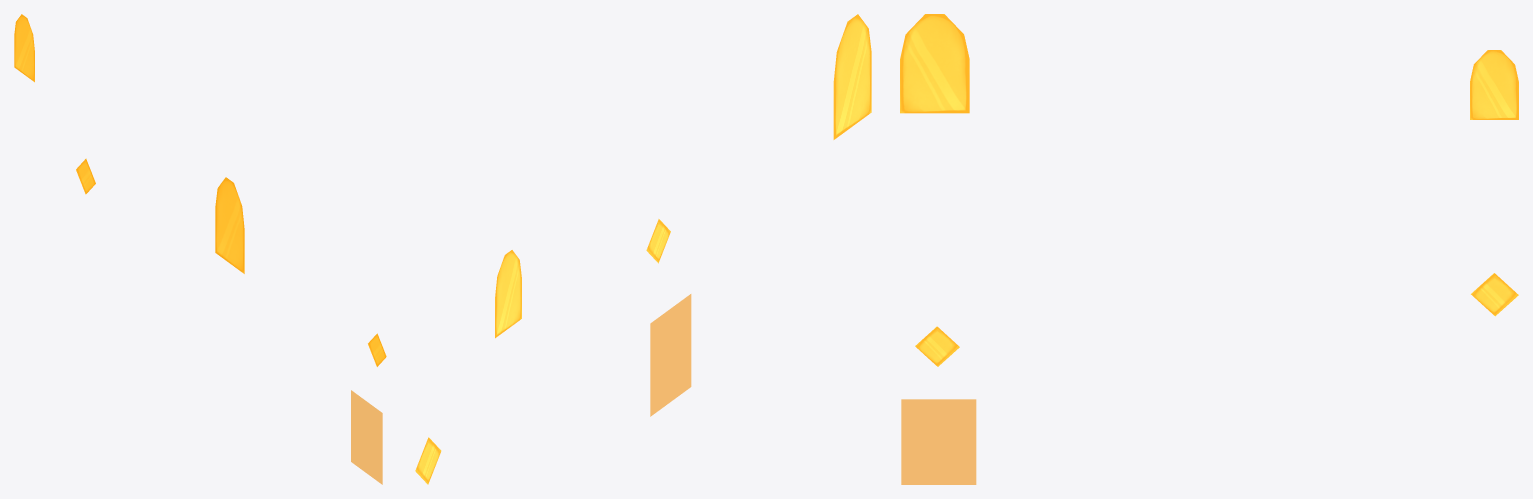
Rendered from glowing.glb.
3 views of the same model, side by side, from view 1: azimuth 30°, elevation 25°; view 2: azimuth 150°, elevation 25°; view 3: azimuth 270°, elevation 25° (orthographic). The views are drawn at different scales.
Parts seen in each view (by area): view 1: obj_house_1_material_window_and_steel_0.331, obj_house_1_material_planks_0.2262, obj_house_2_material_window_and_steel_0.204; view 2: obj_house_1_material_window_and_steel_0.331, obj_house_1_material_planks_0.2262, obj_house_2_material_window_and_steel_0.204; view 3: obj_house_1_material_window_and_steel_0.331, obj_house_1_material_planks_0.2262, obj_house_2_material_window_and_steel_0.204.
Part boxes in pixels (x1=…): obj_house_1_material_window_and_steel_0.331: x1=215, y1=177, x2=386, y2=366; obj_house_1_material_planks_0.2262: x1=351, y1=390, x2=382, y2=484; obj_house_2_material_window_and_steel_0.204: x1=14, y1=14, x2=95, y2=194; obj_house_1_material_window_and_steel_0.331: x1=646, y1=14, x2=871, y2=263; obj_house_1_material_planks_0.2262: x1=650, y1=294, x2=691, y2=416; obj_house_2_material_window_and_steel_0.204: x1=415, y1=250, x2=521, y2=484; obj_house_1_material_window_and_steel_0.331: x1=900, y1=14, x2=969, y2=366; obj_house_1_material_planks_0.2262: x1=901, y1=399, x2=976, y2=484; obj_house_2_material_window_and_steel_0.204: x1=1470, y1=50, x2=1518, y2=316.
Bounding box in the file's own units: 4.25 × 9 × 12.92.
Materials: 3 (2 with a texture image).
